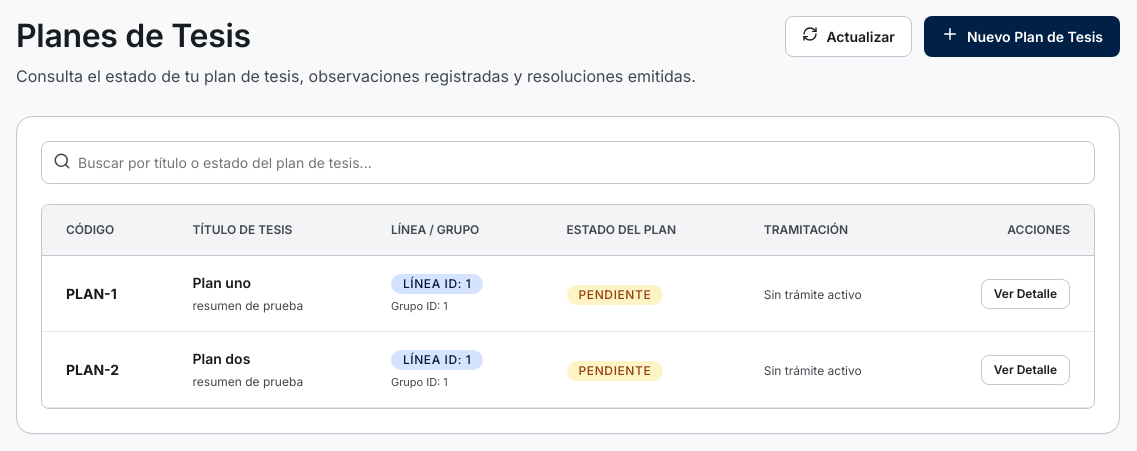
it: ThesisPlansList (#157) › filters plans by the search term
Expected: the text "Plan uno" is shown, [192, 274, 251, 291]
In the field: x=568, y=162 [41, 141, 1095, 184], type "uno"
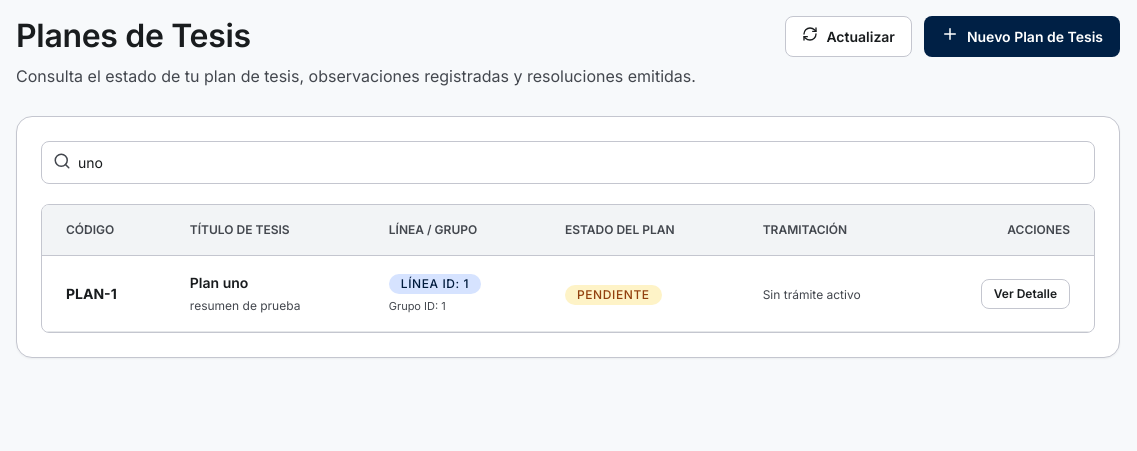
Expected: the text "Plan uno" is shown, [190, 274, 248, 291]
Expected: the text "Plan dos" is gone
